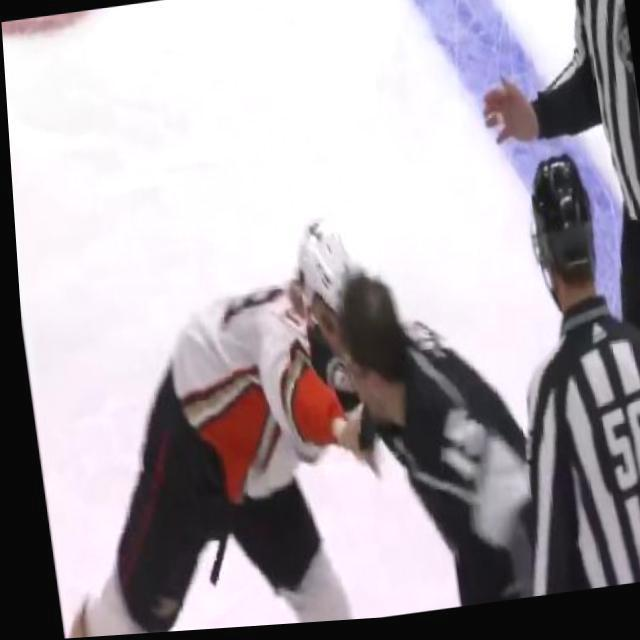fight: (79, 194, 536, 636)
